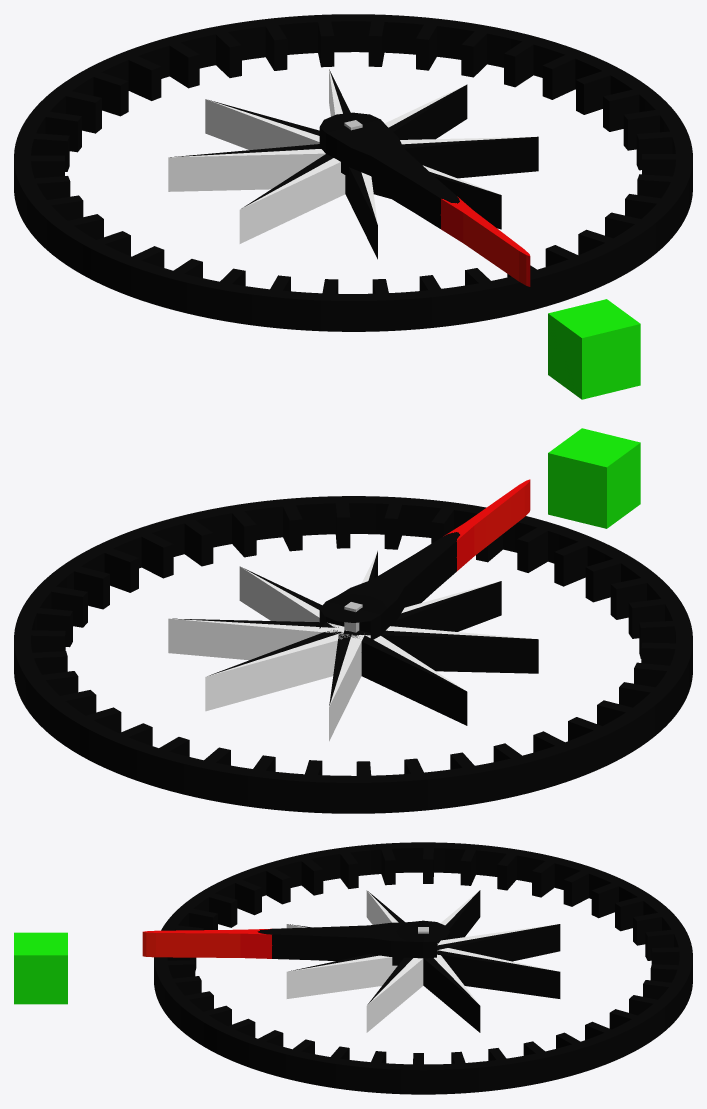
Rendered from compass.obj.
3 views of the same model, one above another, from view 1: azimuth 30°, elevation 25°; view 2: azimuth 150°, elevation 25°; view 3: azimuth 270°, elevation 25° (orthographic). The views are drawn at different scales.
Parts seen in each view (by area): view 1: Marco_Cylinder.002, aguja.001_Cylinder.014, Cube_Cube.001, Cylinder.001_Cylinder.015, Cylinder.006_Cylinder.011, Cylinder_Cylinder.005, Cylinder.003_Cylinder.017, Cylinder.005_Cylinder.019, Cylinder.007_Cylinder.020, Cylinder.002_Cylinder.016; view 2: Marco_Cylinder.002, aguja.001_Cylinder.014, Cube_Cube.001, Cylinder.004_Cylinder.018, Cylinder_Cylinder.005, Cylinder.005_Cylinder.019, Cylinder.001_Cylinder.015, Cylinder.002_Cylinder.016, Cylinder.006_Cylinder.011, Cylinder.003_Cylinder.017; view 3: Marco_Cylinder.002, aguja.001_Cylinder.014, Cube_Cube.001, Cylinder.004_Cylinder.018, Cylinder.007_Cylinder.020, Cylinder.003_Cylinder.017, Cylinder.005_Cylinder.019, Cylinder.006_Cylinder.011, Cylinder.001_Cylinder.015, Cylinder_Cylinder.005.
Boxes of the visible parts, box(x1,y1,x2,y2) form: Marco_Cylinder.002: box(14, 14, 692, 331); aguja.001_Cylinder.014: box(319, 112, 530, 286); Cube_Cube.001: box(548, 299, 640, 399); Cylinder.001_Cylinder.015: box(168, 144, 325, 191); Cylinder.006_Cylinder.011: box(400, 136, 538, 178); Cylinder_Cylinder.005: box(239, 154, 345, 243); Cylinder.003_Cylinder.017: box(205, 99, 319, 149); Cylinder.005_Cylinder.019: box(384, 84, 467, 139); Cylinder.007_Cylinder.020: box(373, 165, 501, 229); Cylinder.002_Cylinder.016: box(345, 167, 377, 259); Marco_Cylinder.002: box(14, 496, 692, 813); aguja.001_Cylinder.014: box(319, 479, 530, 652); Cube_Cube.001: box(548, 428, 640, 528); Cylinder.004_Cylinder.018: box(205, 630, 349, 711); Cylinder_Cylinder.005: box(343, 626, 538, 673); Cylinder.005_Cylinder.019: box(168, 618, 341, 660); Cylinder.001_Cylinder.015: box(348, 634, 467, 725); Cylinder.002_Cylinder.016: box(338, 581, 501, 635); Cylinder.006_Cylinder.011: box(239, 566, 348, 635); Cylinder.003_Cylinder.017: box(329, 632, 364, 741); Marco_Cylinder.002: box(154, 842, 692, 1094); aguja.001_Cylinder.014: box(142, 920, 450, 967); Cube_Cube.001: box(14, 932, 67, 1004); Cylinder.004_Cylinder.018: box(437, 948, 560, 998); Cylinder.007_Cylinder.020: box(286, 954, 397, 998); Cylinder.003_Cylinder.017: box(437, 924, 560, 961); Cylinder.005_Cylinder.019: box(423, 954, 480, 1032); Cylinder.006_Cylinder.011: box(366, 957, 423, 1032); Cylinder.001_Cylinder.015: box(437, 890, 480, 944); Cylinder_Cylinder.005: box(366, 890, 404, 924).
Size of the model in its own units: 20 by 2.6 by 25.19.
Materials: 2 (1 with a texture image).
